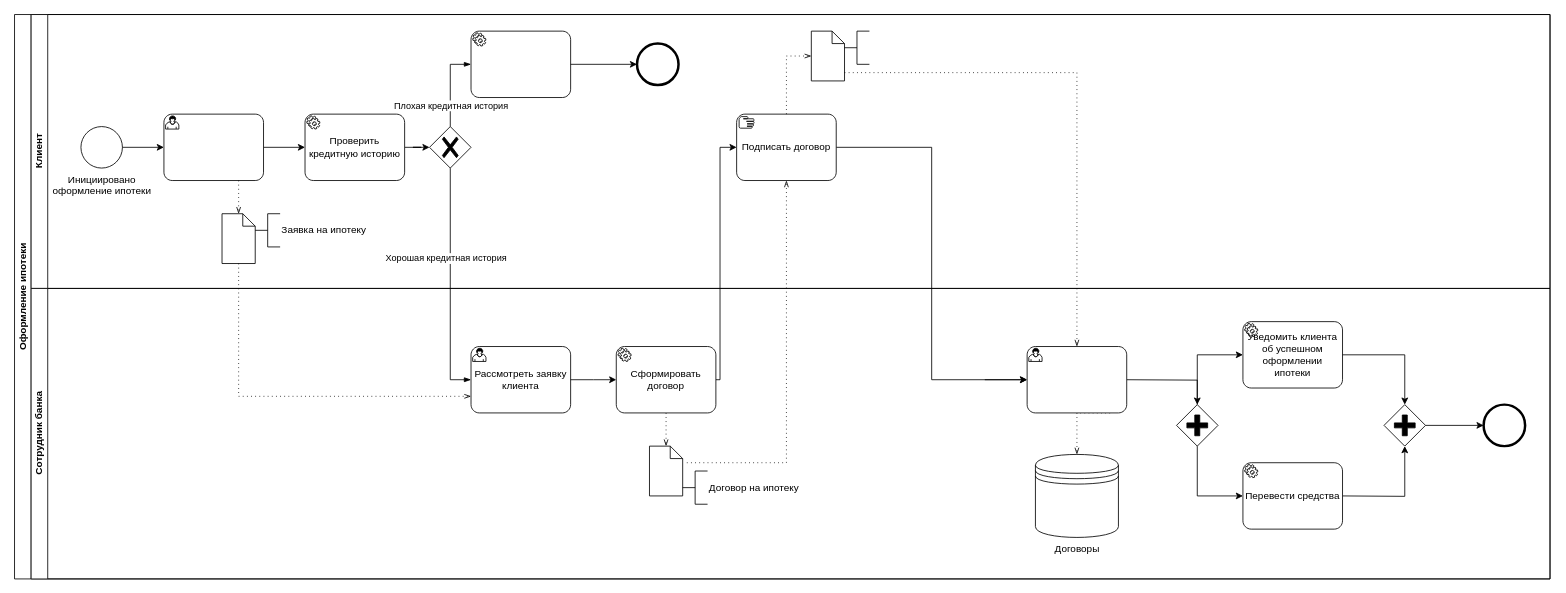
Image size: 1566x593. Some labels were removed from this diagram. Here are the shapes that lost their labels. From the top down, the centre of each, then its label:
the point at 520,64: Уведомить клиента об отказе
the point at 657,64: Заявка отклонена
the point at 856,47: Подписанный договор
the point at 213,147: Составить заявку на ипотеку
the point at 1076,379: Загрузить скан договора в приложение
the point at 1504,425: Ипотека оформлена
